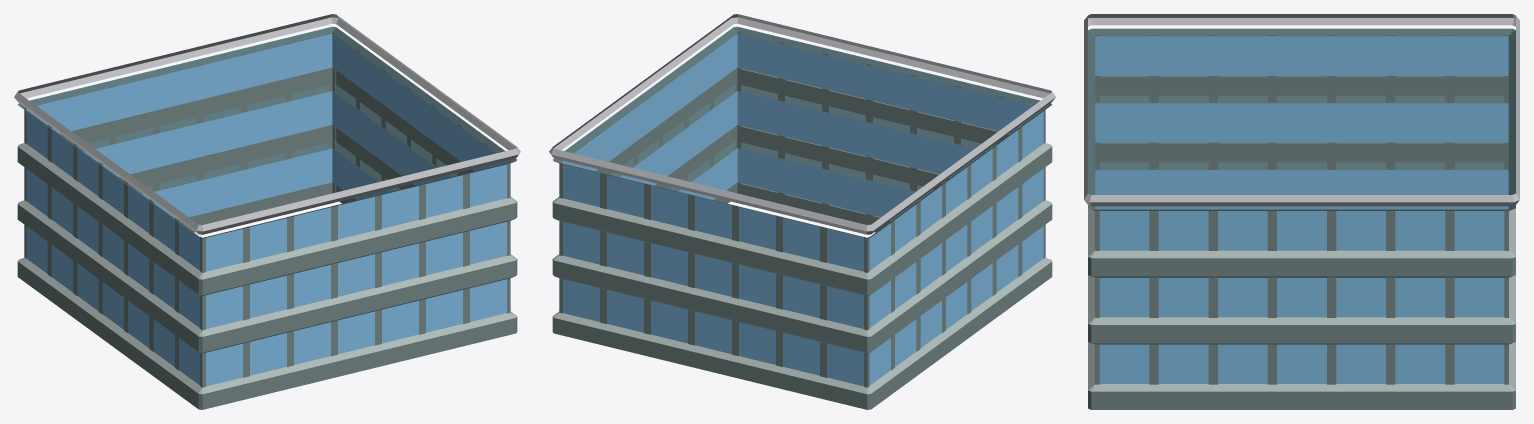
File: Building_Base.fbx
The picture shows the model from 3 angles, left to right: view 1: azimuth 30°, elevation 25°; view 2: azimuth 150°, elevation 25°; view 3: azimuth 270°, elevation 25°; orthographic projection. The views are drawn at different scales.
Parts seen in each view (by area): view 1: Building_base; view 2: Building_base; view 3: Building_base.
Part boxes in pixels (x1,y1,x2,y2): Building_base: [14, 14, 520, 409]; Building_base: [549, 14, 1055, 409]; Building_base: [1084, 14, 1519, 409].
Bounding box in the file's own units: 651 × 354 × 651.
